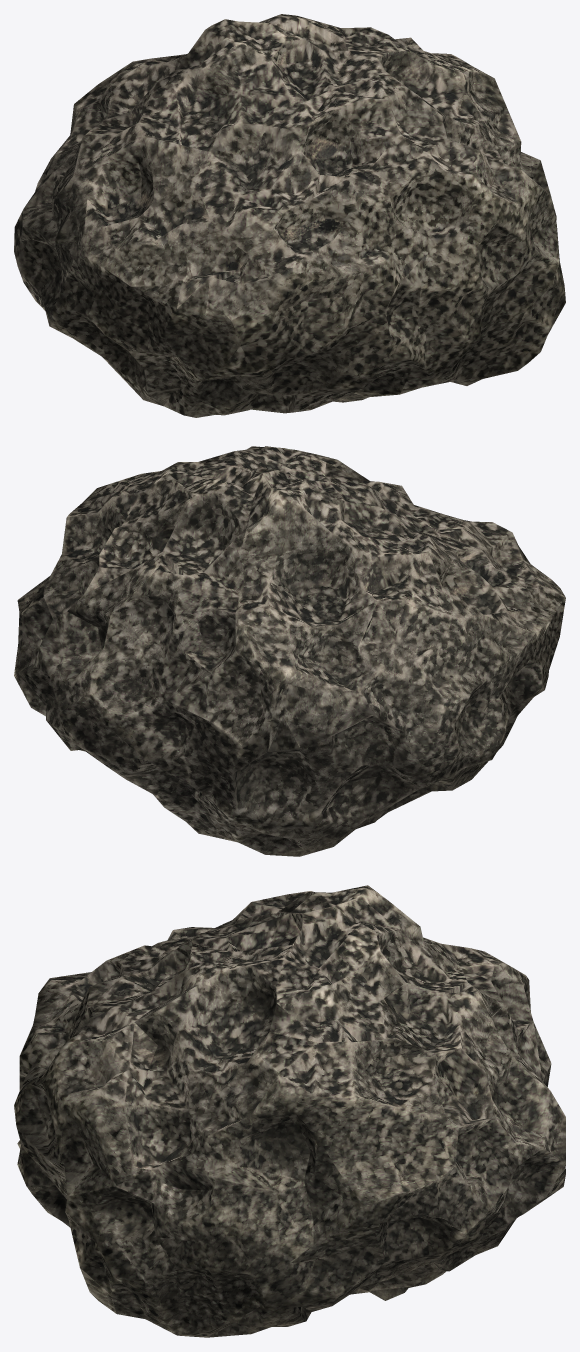
The picture shows the model from 3 angles, top to bottom: view 1: azimuth 30°, elevation 25°; view 2: azimuth 150°, elevation 25°; view 3: azimuth 270°, elevation 25°; orthographic projection. The views are drawn at different scales.
Parts seen in each view (by area): view 1: mesh_node; view 2: mesh_node; view 3: mesh_node.
Boxes of the visible parts, bbox=[...] form: mesh_node: bbox=[14, 14, 565, 417]; mesh_node: bbox=[14, 446, 565, 856]; mesh_node: bbox=[14, 885, 565, 1337].
Size of the model in its own units: 1 by 0.7441 by 0.9668.
Materials: 1 (1 with a texture image).
